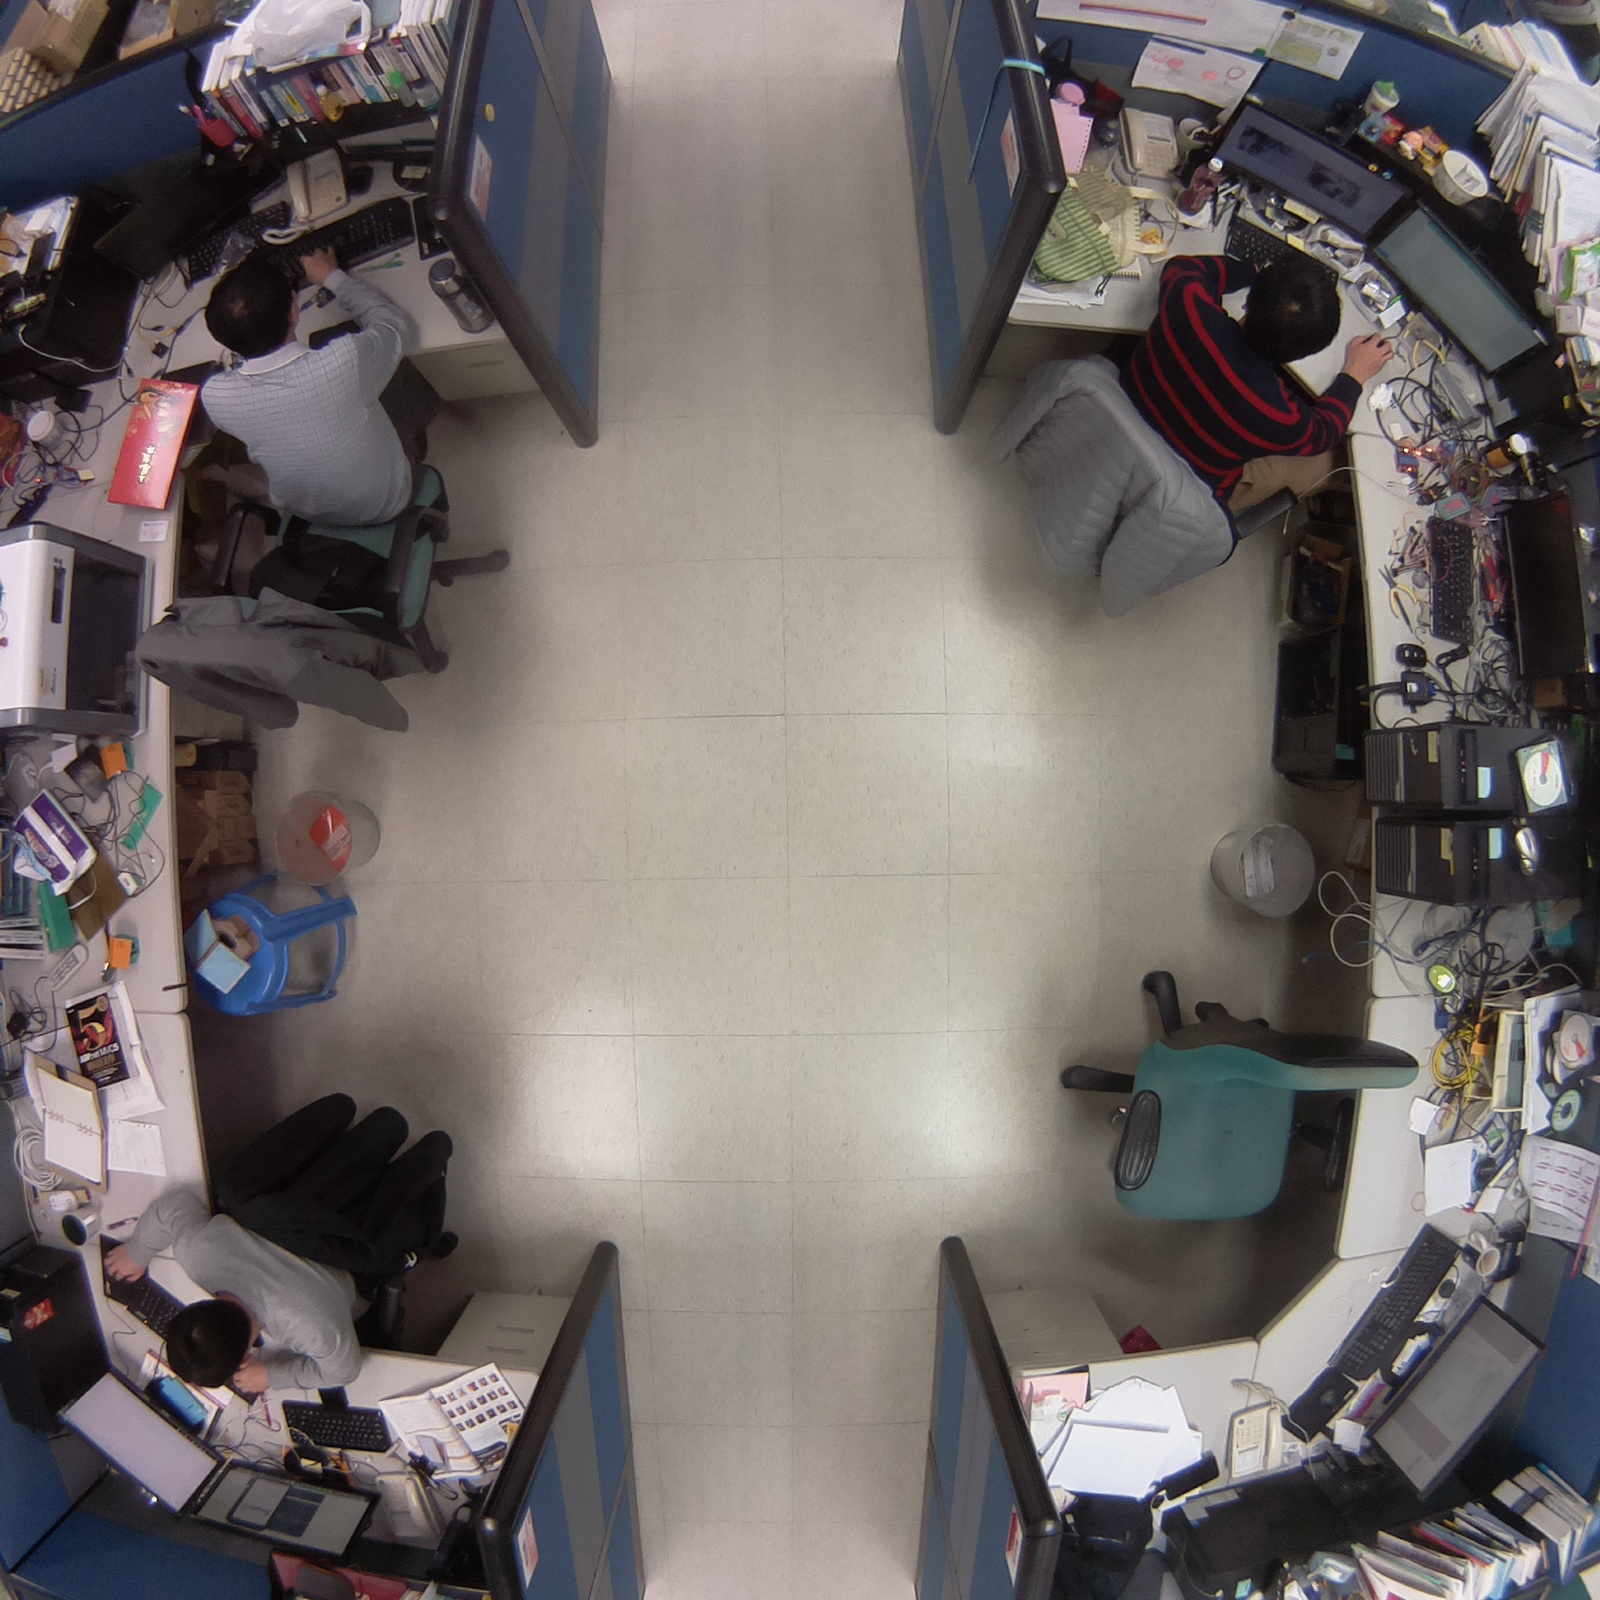chair: (1042, 958, 1419, 1245)
head: (1238, 248, 1346, 370), (195, 251, 308, 359), (159, 1287, 261, 1395)
sitting: (124, 251, 522, 755), (973, 229, 1397, 619), (100, 1081, 478, 1403)
